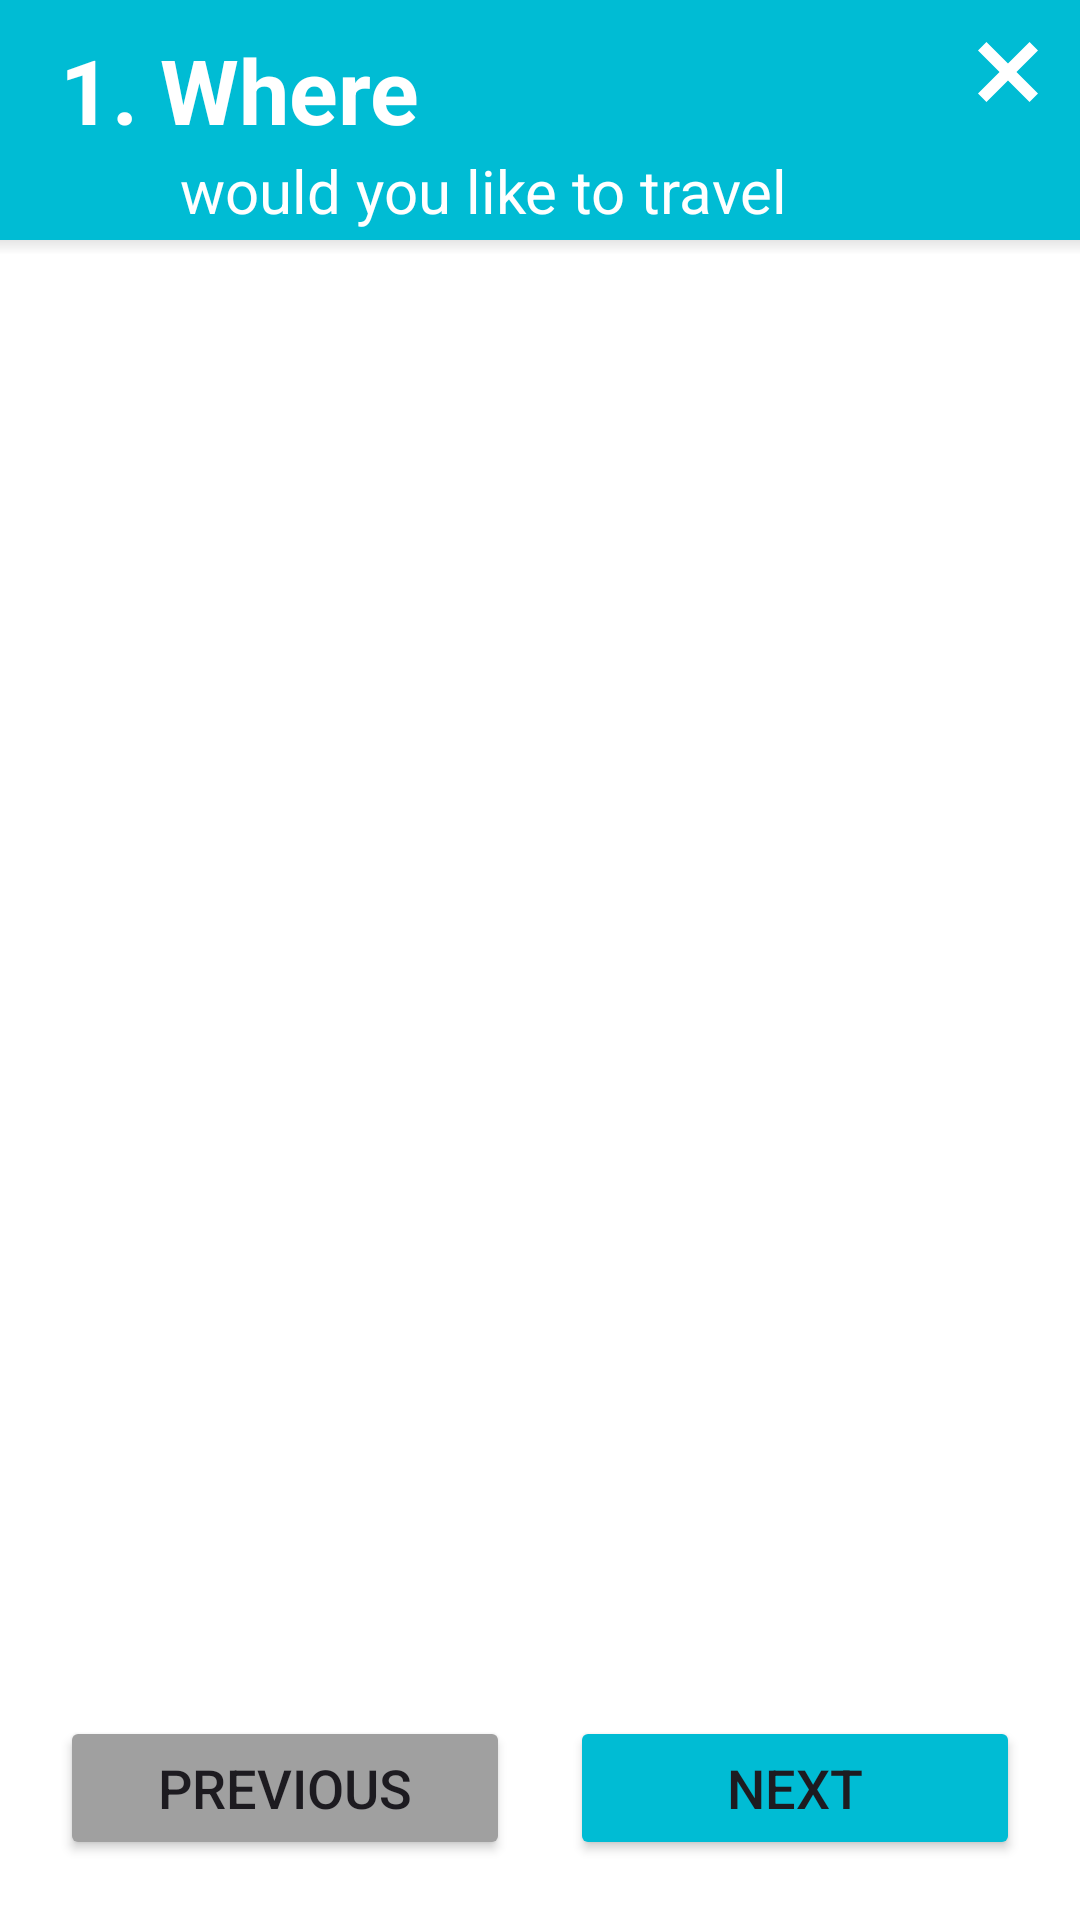

Point at icon controls on the screen. Image size 1080px x 1920px, points as (x,y).
close: (1008,72)
